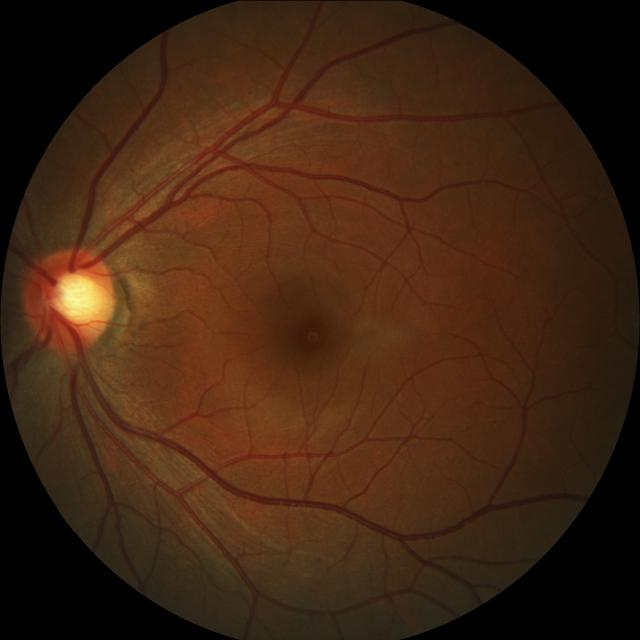OC: (50, 269, 103, 323)
OD: (25, 247, 115, 351)
